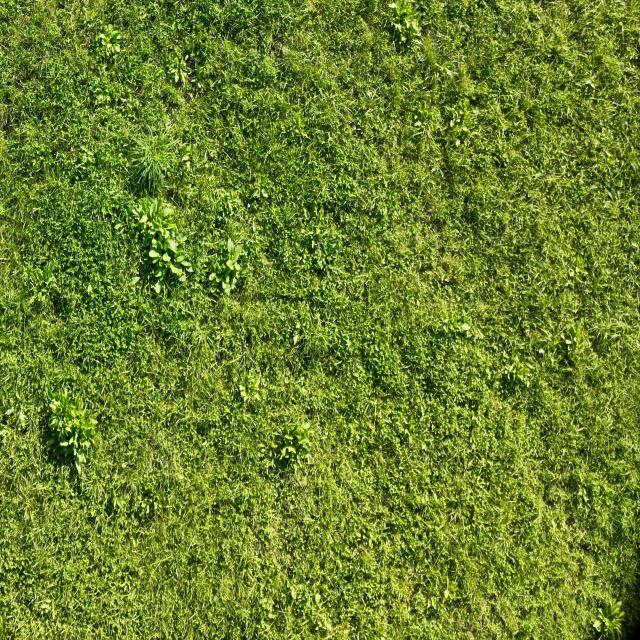rumex: (412, 388, 509, 552), (528, 372, 618, 523), (316, 509, 405, 636), (127, 323, 205, 416), (69, 282, 148, 372), (486, 94, 543, 204), (210, 359, 274, 449), (276, 556, 342, 636), (577, 0, 640, 82), (584, 290, 638, 359), (206, 3, 267, 60), (281, 296, 330, 363), (204, 35, 254, 98), (301, 214, 341, 275), (20, 126, 64, 180), (170, 236, 207, 292), (208, 182, 251, 229), (434, 303, 477, 348), (341, 407, 380, 456), (129, 472, 168, 518), (442, 94, 476, 144), (67, 130, 102, 176), (283, 112, 315, 161), (555, 318, 585, 369), (590, 597, 628, 637), (96, 23, 125, 60), (501, 356, 532, 389), (167, 48, 190, 91), (237, 372, 263, 408), (224, 238, 246, 271), (436, 570, 458, 602), (388, 1, 414, 20), (562, 328, 578, 348), (64, 405, 80, 425), (92, 92, 110, 109), (60, 440, 76, 458), (42, 261, 56, 281), (72, 443, 83, 465), (511, 360, 525, 377), (126, 204, 140, 220), (247, 186, 262, 200), (18, 410, 29, 429), (78, 438, 91, 454), (150, 281, 162, 298), (78, 145, 94, 157), (114, 496, 126, 512), (98, 34, 114, 46), (306, 200, 317, 217), (610, 599, 624, 612), (162, 207, 174, 222), (167, 238, 179, 253), (153, 264, 164, 280), (582, 76, 596, 88), (50, 400, 62, 414), (591, 618, 603, 632), (51, 416, 62, 431), (410, 21, 421, 36), (227, 237, 236, 255), (26, 294, 38, 307), (44, 275, 56, 288), (44, 436, 56, 449), (222, 281, 233, 295), (342, 334, 352, 349), (128, 275, 140, 287), (299, 421, 311, 433), (176, 233, 188, 245), (445, 67, 456, 80), (525, 361, 538, 372), (170, 264, 183, 275), (462, 96, 470, 113), (606, 188, 615, 202), (299, 384, 309, 396), (319, 583, 329, 595), (174, 253, 186, 263), (226, 258, 236, 270), (292, 332, 300, 346), (563, 279, 574, 289), (4, 407, 15, 417), (393, 19, 403, 30), (162, 252, 172, 263), (38, 292, 47, 304), (164, 118, 173, 130), (182, 160, 190, 173), (388, 1, 398, 11), (65, 425, 74, 436), (382, 205, 389, 219), (61, 386, 68, 400), (238, 138, 246, 150), (305, 454, 313, 466), (315, 225, 322, 238), (181, 154, 190, 164), (179, 273, 188, 283), (568, 267, 576, 278), (548, 357, 556, 368), (486, 368, 493, 380), (296, 114, 302, 128), (202, 152, 209, 164), (238, 384, 246, 394), (260, 189, 268, 199), (399, 33, 407, 43), (628, 258, 633, 274), (195, 79, 201, 92), (414, 120, 423, 128), (566, 69, 574, 78), (90, 417, 98, 426), (140, 214, 148, 223), (449, 119, 456, 129), (151, 238, 158, 248), (59, 440, 69, 447), (538, 348, 546, 356), (184, 53, 191, 62), (87, 284, 93, 294), (409, 422, 415, 432), (366, 89, 372, 99), (634, 241, 640, 251)
